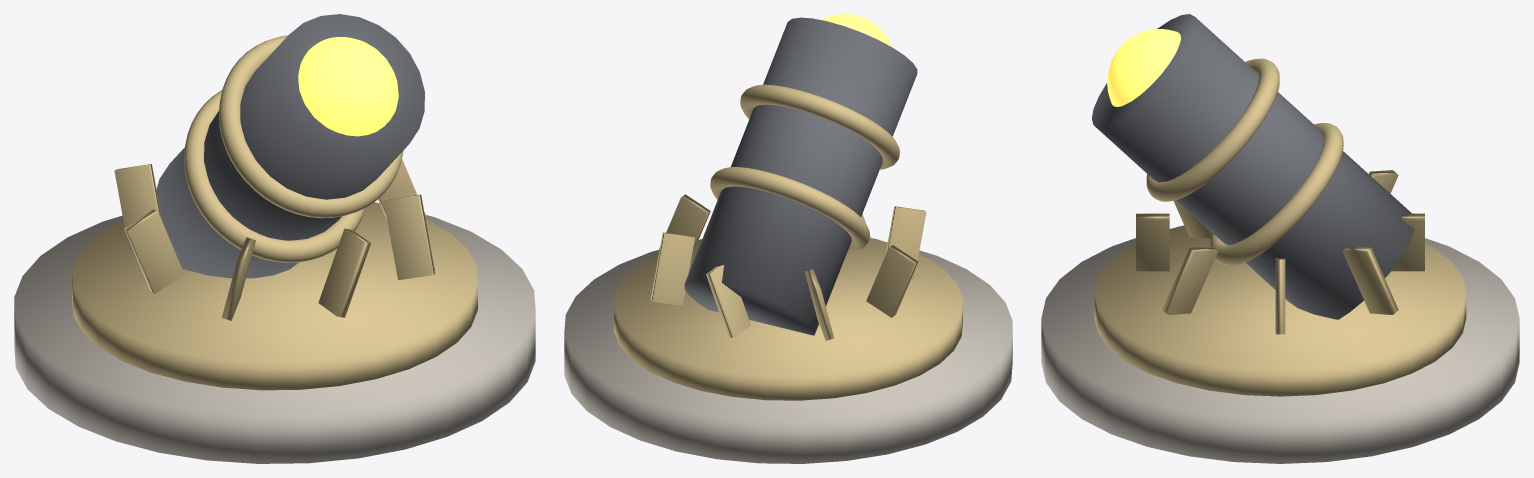
Rendered from tower_bloom_cannon.glb.
3 renders of one model, left to right at view 1: azimuth 30°, elevation 25°; view 2: azimuth 150°, elevation 25°; view 3: azimuth 270°, elevation 25°, orthographic. The views are drawn at different scales.
Visible parts, largest first — view 1: Cylinder, Cylinder.001, Cylinder.002, Sphere, Torus.001, Torus, Cube.007, Cube.004, Cube.006, Cube.003, Cube.005, Cube; view 2: Cylinder, Cylinder.002, Cylinder.001, Torus.001, Torus, Cube.001, Cube.004, Cube.002, Cube.005, Cube, Sphere, Cube.003; view 3: Cylinder, Cylinder.002, Cylinder.001, Torus.001, Torus, Sphere, Cube.001, Cube.007, Cube.006, Cube.002, Cube, Cube.005.
Boxes of the visible parts, x1,y1,x2,y2 form: Cylinder: (14,215,535,463); Cylinder.001: (72,202,477,390); Cylinder.002: (156,14,424,278); Sphere: (298,37,398,136); Torus.001: (219,35,403,218); Torus: (184,90,366,262); Cube.007: (383,194,435,280); Cube.004: (124,209,184,293); Cube.006: (318,228,370,317); Cube.003: (114,164,162,249); Cube.005: (222,237,255,320); Cube: (378,159,425,221); Cylinder: (564,250,1012,463); Cylinder.002: (684,17,917,335); Cylinder.001: (614,238,962,400); Torus.001: (740,84,899,169); Torus: (710,167,869,252); Cube.001: (650,232,694,305); Cube.004: (866,245,917,317); Cube.002: (706,265,750,338); Cube.005: (885,206,926,279); Cube: (658,194,710,254); Sphere: (822,14,891,46); Cube.003: (805,269,833,340); Cylinder: (1041,228,1519,463); Cylinder.002: (1091,14,1414,319); Cylinder.001: (1094,225,1466,396); Torus.001: (1146,58,1279,201); Torus: (1210,123,1343,265); Sphere: (1107,29,1180,106); Cube.001: (1342,246,1398,314); Cube.007: (1162,246,1218,314); Cube.006: (1136,213,1169,271); Cube.002: (1391,213,1424,271); Cube: (1275,258,1285,334); Cube.005: (1173,200,1211,238).
Bounding box in the file's own units: 2.7 × 2.12 × 2.7.
